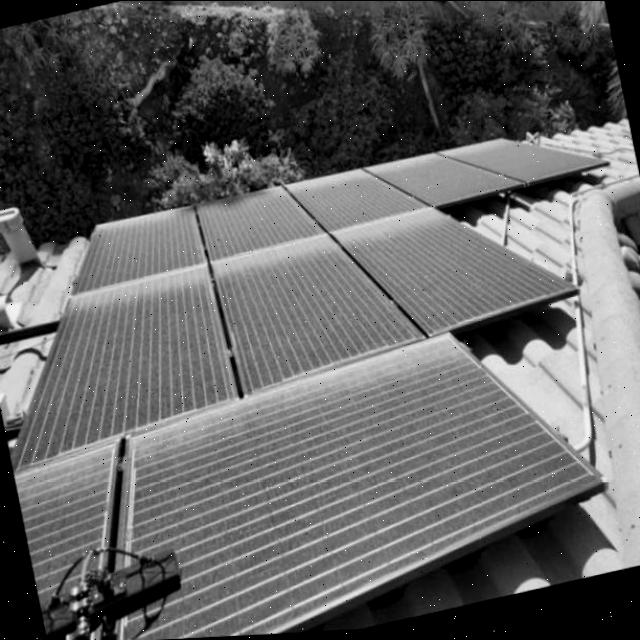Anomaly Solar Panel: (114, 336, 597, 640), (8, 264, 235, 471), (208, 236, 423, 399), (327, 209, 573, 342), (68, 205, 204, 295), (192, 187, 323, 263), (279, 169, 428, 235), (359, 156, 522, 211), (433, 142, 606, 186)
Surface Contaminant: (127, 338, 477, 492), (89, 142, 517, 243), (208, 236, 344, 289), (63, 265, 207, 314), (329, 206, 449, 247)
